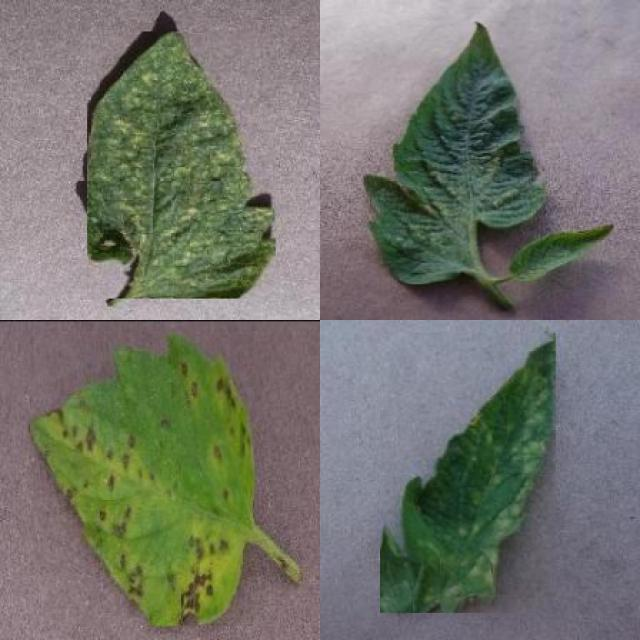Leaf Mold: (380, 333, 556, 613)
Septoria: (28, 334, 255, 626)
Spider Mites: (87, 32, 276, 298), (361, 22, 546, 285)
